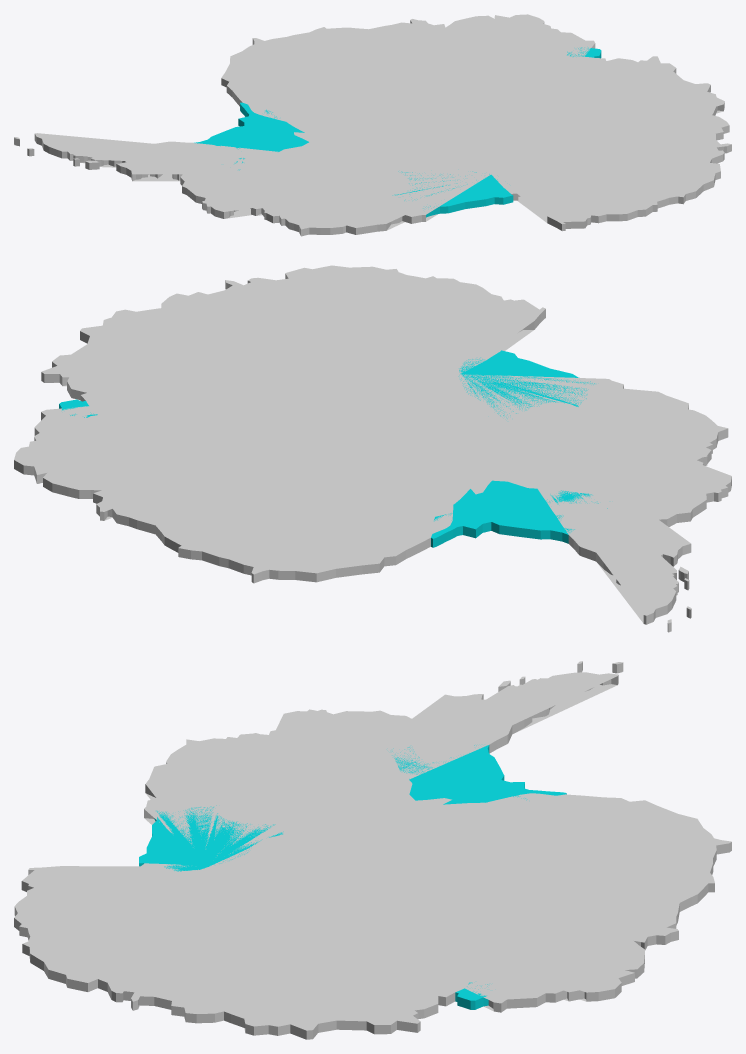
Rendered from antacrtic.fbx.
3 views of the same model, one above another, from view 1: azimuth 30°, elevation 25°; view 2: azimuth 150°, elevation 25°; view 3: azimuth 270°, elevation 25° (orthographic). The views are drawn at different scales.
Parts seen in each view (by area): view 1: Cube; view 2: Cube; view 3: Cube.
Part boxes in pixels (x1,y1,x2,y2): Cube: (14, 14, 731, 236); Cube: (14, 265, 731, 632); Cube: (14, 661, 731, 1039).
Size of the model in its own units: 355 by 4.1 by 291.
